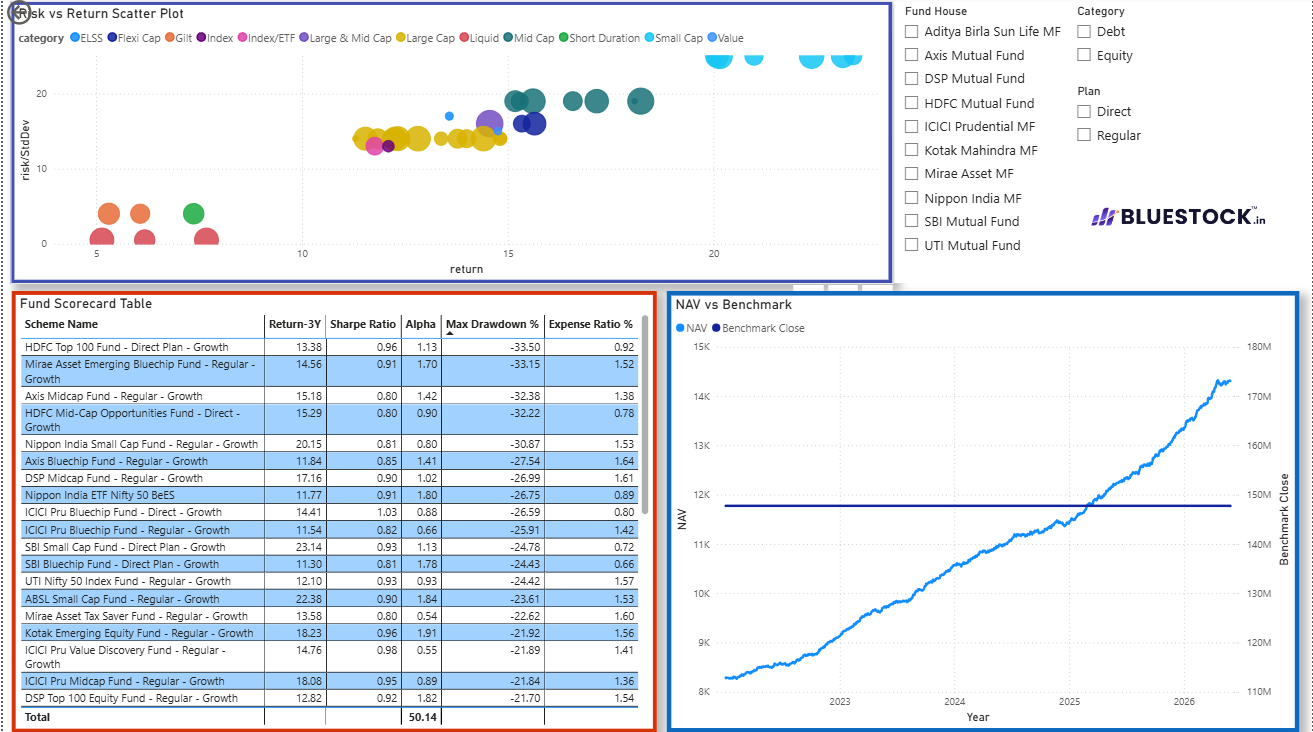

This screenshot's page, from the dashboard's own definition file:
{"tool":"powerbi","page":{"name":"Fund Performance","canvas":[1600,900],"ordinal":1},"visuals":[{"type":"scatterChart","title":"Risk vs Return Scatter Plot","fields":{"X":["fact_performance.return_3yr_pct"],"Y":["fact_performance.std_dev_ann_pct"],"Size":["Sum(fact_performance.aum_crore)"],"Series":["fact_performance.category"]},"box":[9.6,5.5,1078.6,345.8],"z":0},{"type":"tableEx","title":"Fund Scorecard Table","fields":{"Values":["fact_performance.scheme_name","fact_performance.return_3yr_pct","fact_performance.sharpe_ratio","Sum(fact_performance.alpha)","fact_performance.max_drawdown_pct","fact_performance.expense_ratio_pct"]},"box":[10.3,360.2,789,540.3],"z":1000},{"type":"lineChart","title":"NAV vs Benchmark","fields":{"Y":["Sum(fact_nav.nav)"],"Category":["fact_nav.date"],"Y2":["Sum(benchmark_indices_cleaned.close_value)"]},"box":[811.3,360.2,773.6,540.3],"z":2000},{"type":"slicer","fields":{"Values":["dim_fund.fund_house"]},"box":[1089.2,5.1,211,346.5],"z":3000},{"type":"slicer","fields":{"Values":["dim_fund.category"]},"box":[1300.2,5.1,284.7,97.8],"z":4000},{"type":"slicer","fields":{"Values":["dim_fund.plan"]},"box":[1300.2,102.9,284.7,99.5],"z":5000},{"type":"actionButton","box":[0,0,100,40],"z":6000},{"type":"image","box":[1289.9,255.6,295,27.4],"z":6001}]}

Visuals, with their boxes in screenshot pixels (x1, y1, x2, y2), scaled from the page's 1600x900 canvas onto the 1313x732 screenshot:
"Risk vs Return Scatter Plot" scatterChart: crop(8, 4, 893, 286)
"Fund Scorecard Table" tableEx: crop(8, 293, 656, 731)
"NAV vs Benchmark" lineChart: crop(666, 293, 1301, 731)
slicer - dim_fund.fund_house: crop(894, 4, 1067, 286)
slicer - dim_fund.category: crop(1067, 4, 1301, 84)
slicer - dim_fund.plan: crop(1067, 84, 1301, 165)
actionButton: crop(0, 0, 82, 33)
image: crop(1059, 208, 1301, 230)
